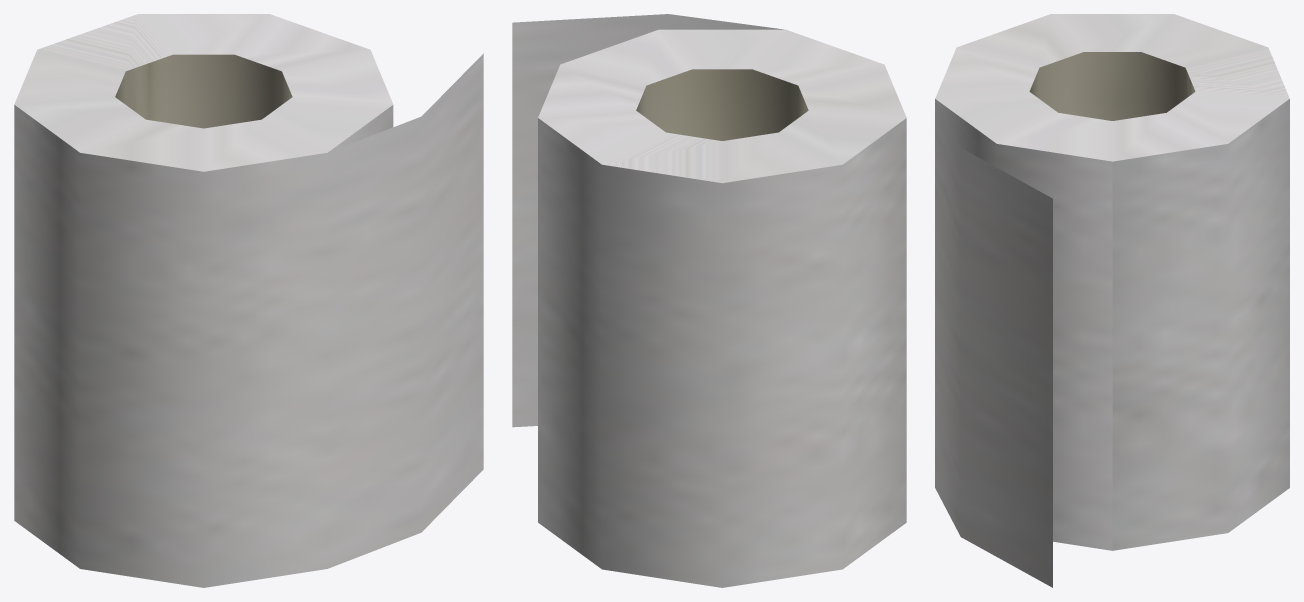
The model's file is Tissue.FBX.
3 views of the same model, side by side, from view 1: azimuth 30°, elevation 25°; view 2: azimuth 150°, elevation 25°; view 3: azimuth 270°, elevation 25° (orthographic). The views are drawn at different scales.
Visible parts, largest first — view 1: Tissue; view 2: Tissue; view 3: Tissue.
Boxes of the visible parts, <box> form: Tissue: <box>14,14,483,587</box>; Tissue: <box>512,14,906,587</box>; Tissue: <box>935,14,1289,587</box>.
Size of the model in its own units: 4.44 by 4.36 by 3.6.
